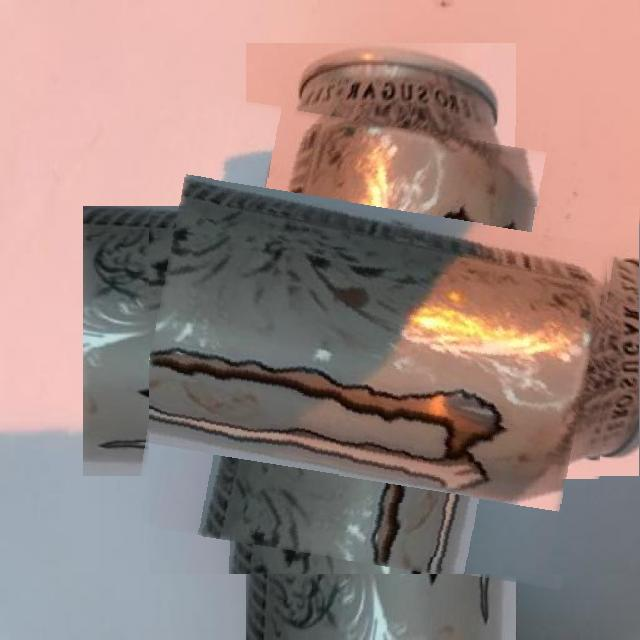recyclable: (149, 109, 613, 574)
